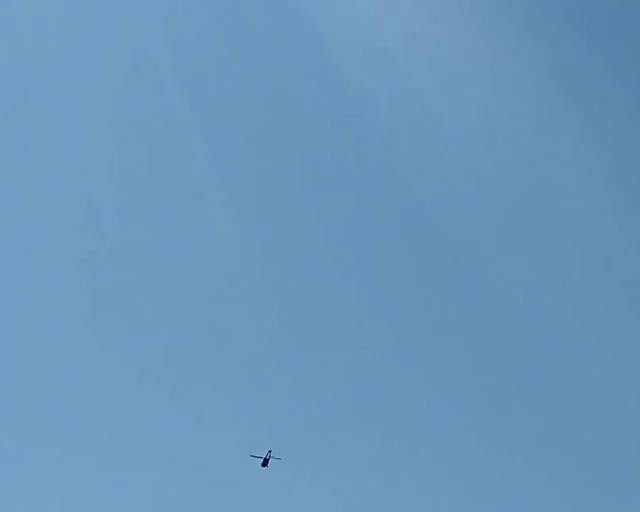HELICOPTER: (249, 449, 282, 468)
